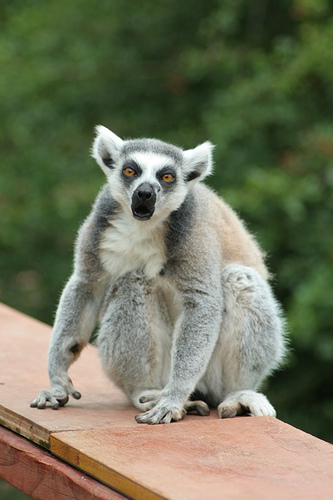cat: (26, 122, 295, 420)
